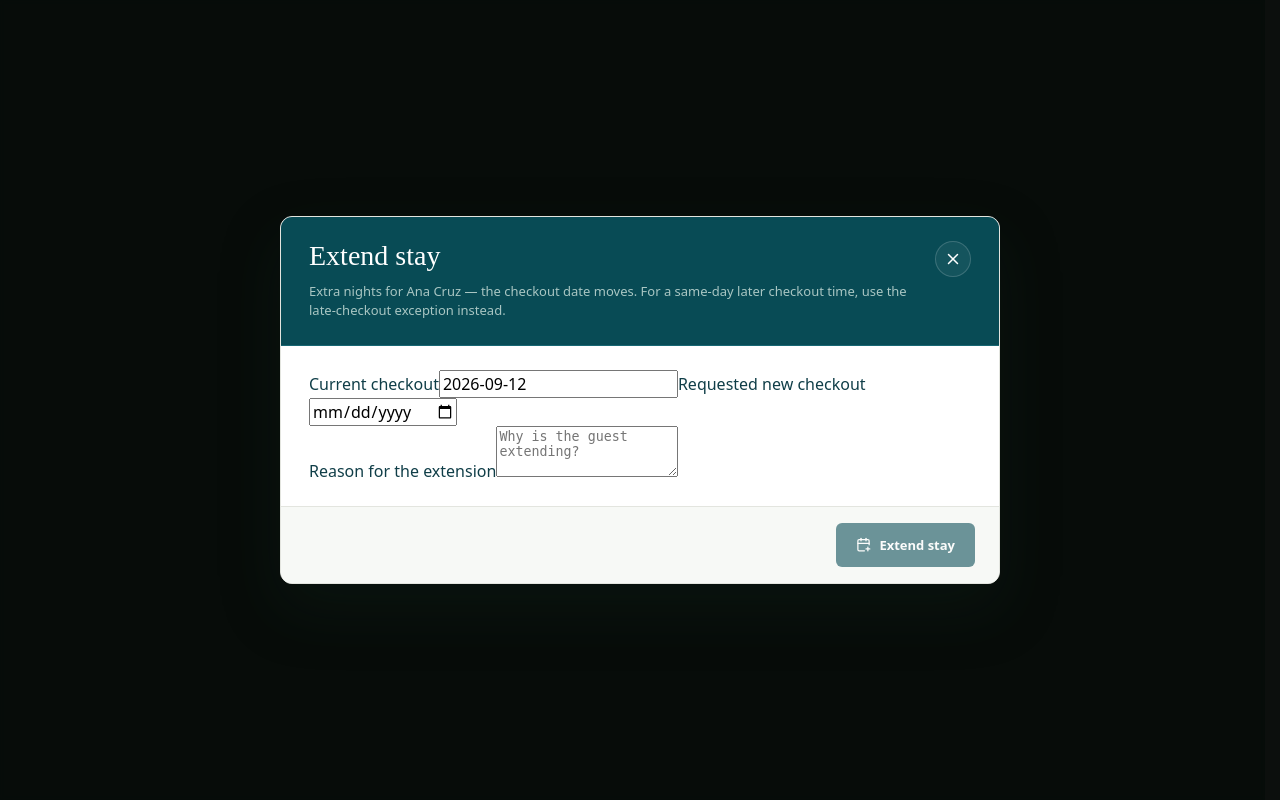
Test: ExtendStayDialog › offers the Manager exception handoff when the normal path reports a room conflict
Type "2026-09-15" into the date field labelled "Requested new checkout" at x=383, y=412, box [309,398,457,426]
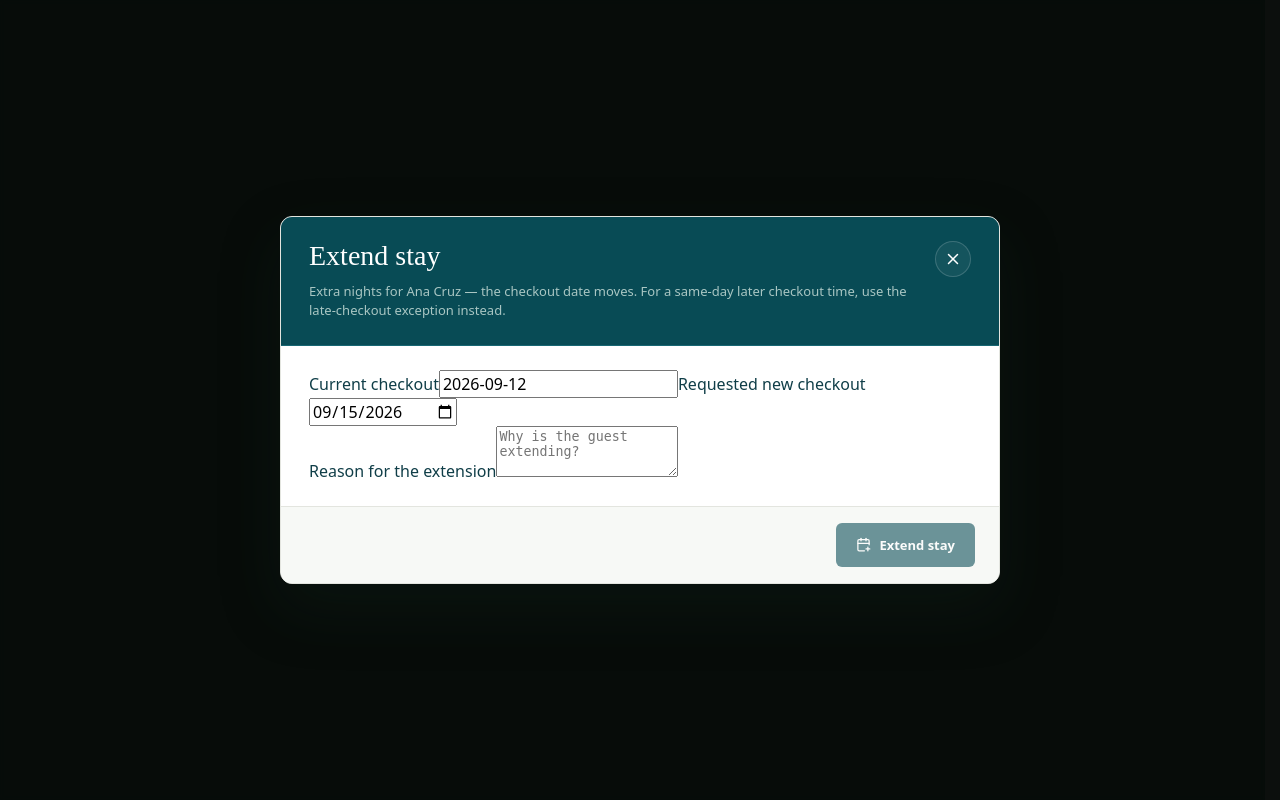
Type "Guest asked to stay three more nights" into the text box labelled "Reason for the extension" at x=587, y=451, box [496,426,678,477]
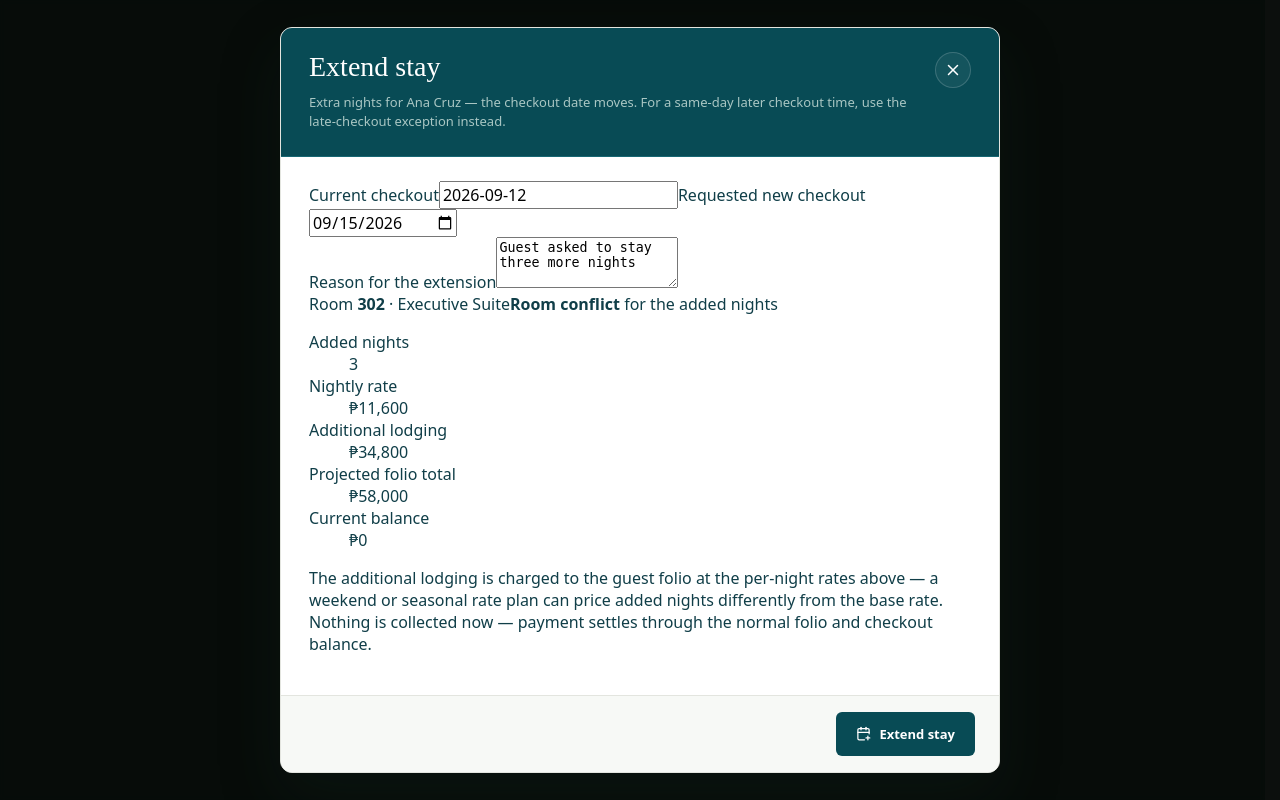
Expected: the button "Extend stay" is enabled
Click the button "Extend stay" at x=906, y=734, box [836,712,975,756]
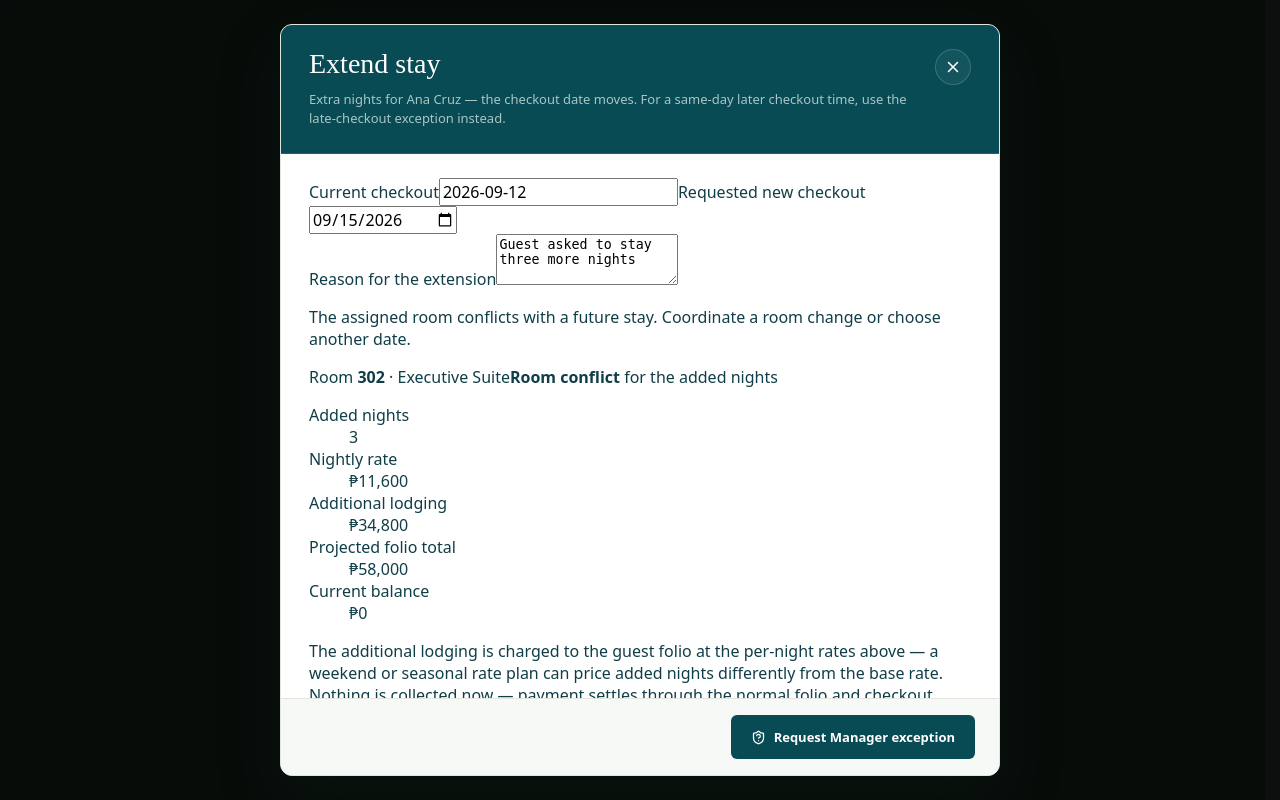
Expected: the button "Request Manager exception" is shown
Click the button "Request Manager exception" at x=853, y=737, box [731,715,975,759]
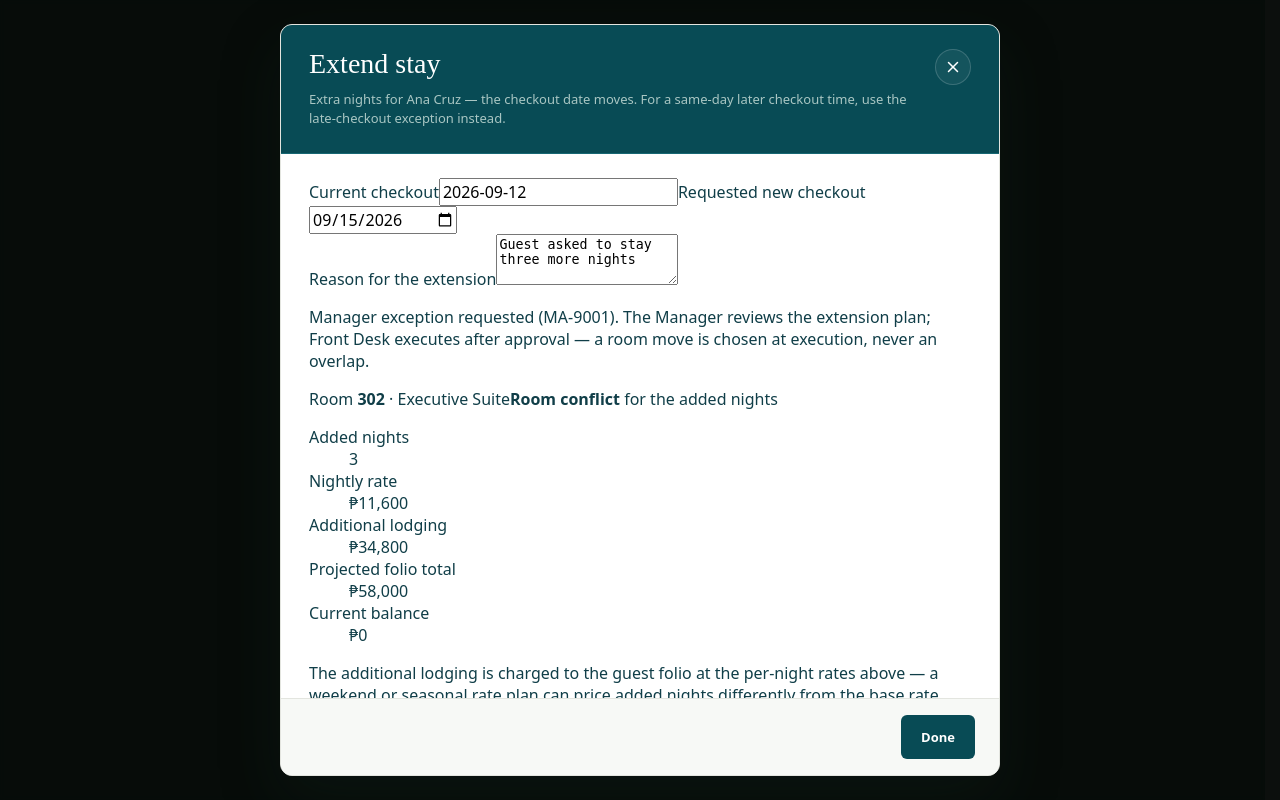
Expected: the text "MA-9001" is shown, [543,306,610,328]
